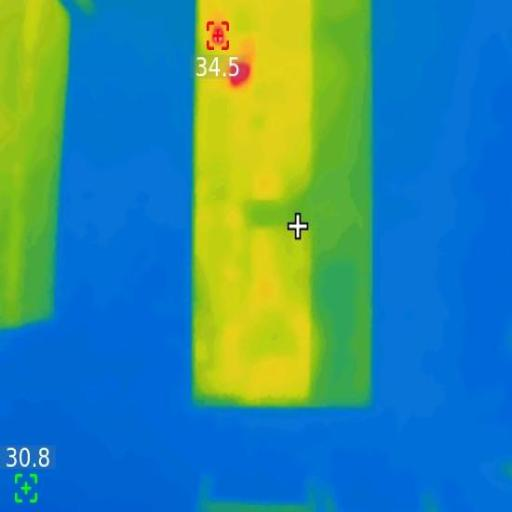hotspot: (232, 66, 251, 86), (213, 25, 226, 45)
